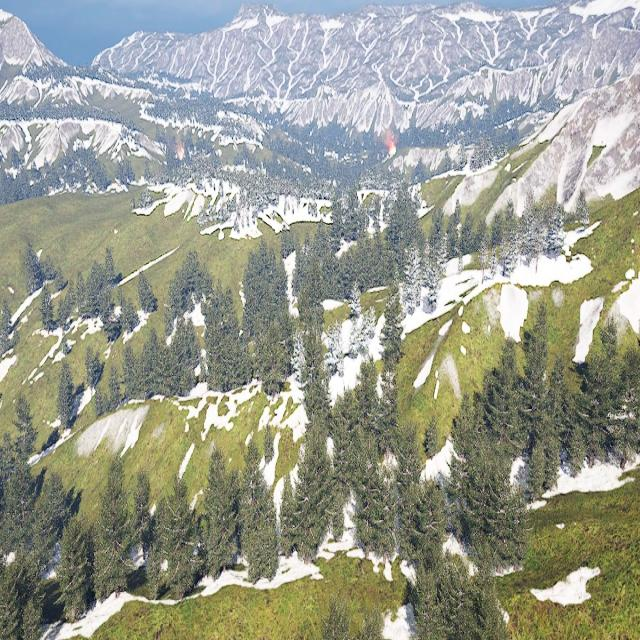fire: (388, 142, 398, 159), (178, 150, 185, 162)
smoke: (380, 128, 398, 145)
